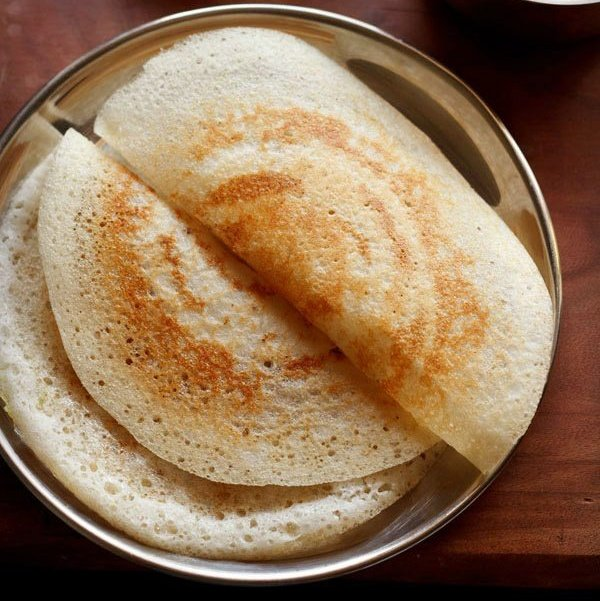dosa: (4, 32, 600, 571)
